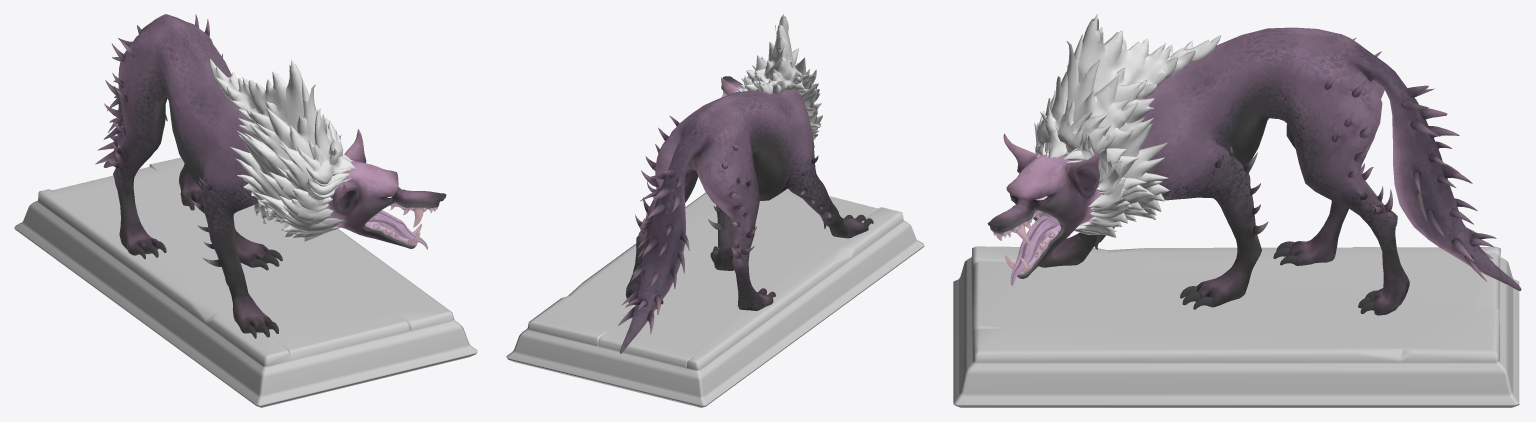
3 views of the same model, side by side, from view 1: azimuth 30°, elevation 25°; view 2: azimuth 150°, elevation 25°; view 3: azimuth 270°, elevation 25° (orthographic). The views are drawn at different scales.
Visible parts, largest first — view 1: SM_Taxidermy_Trophy_Full_Body_Wolf_02_LOD0; view 2: SM_Taxidermy_Trophy_Full_Body_Wolf_02_LOD0; view 3: SM_Taxidermy_Trophy_Full_Body_Wolf_02_LOD0.
Part boxes in pixels (<box>): SM_Taxidermy_Trophy_Full_Body_Wolf_02_LOD0: <box>14,14,477,407</box>; SM_Taxidermy_Trophy_Full_Body_Wolf_02_LOD0: <box>506,14,924,407</box>; SM_Taxidermy_Trophy_Full_Body_Wolf_02_LOD0: <box>953,14,1521,407</box>.
Bounding box in the file's own units: 1.06 × 1.3 × 2.04.
